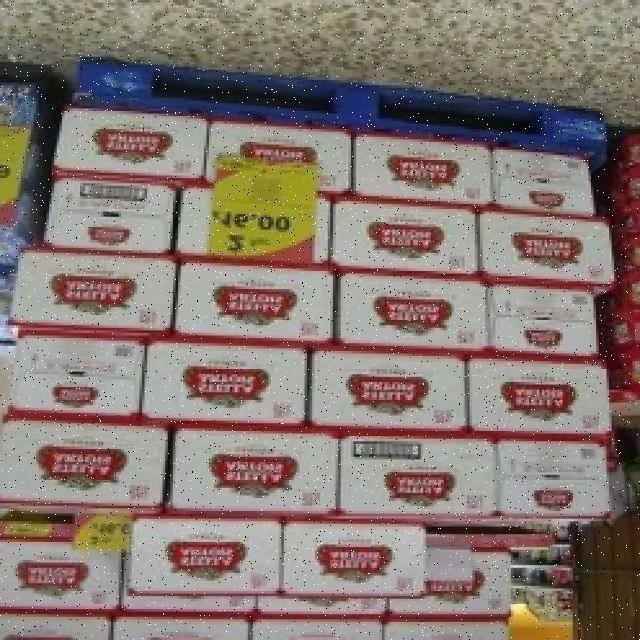box: (0, 423, 163, 519), (142, 338, 320, 423), (4, 254, 178, 340), (170, 431, 340, 518), (171, 185, 345, 262), (342, 436, 495, 518), (327, 346, 477, 429), (323, 197, 498, 268), (49, 110, 213, 185), (333, 272, 488, 350), (132, 520, 280, 601), (29, 187, 178, 266), (473, 358, 614, 441), (478, 214, 635, 285), (14, 337, 146, 419), (198, 125, 355, 193), (283, 528, 423, 604), (0, 524, 124, 609), (178, 276, 338, 338), (493, 442, 609, 520), (351, 136, 492, 200), (397, 550, 512, 618), (487, 292, 604, 358), (496, 158, 593, 212), (114, 617, 264, 640), (0, 612, 118, 640), (260, 600, 396, 624), (122, 592, 264, 612), (253, 619, 382, 640), (382, 619, 500, 640), (381, 622, 386, 628)
